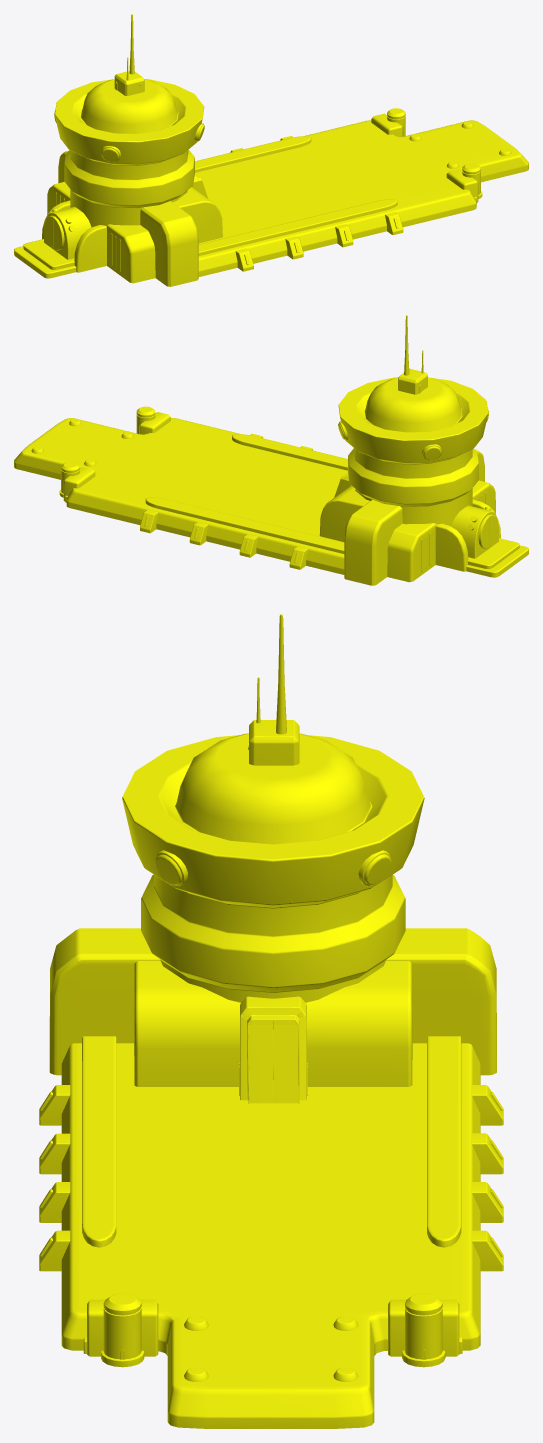
The model's file is runway_strip.glb.
3 views of the same model, one above another, from view 1: azimuth 30°, elevation 25°; view 2: azimuth 150°, elevation 25°; view 3: azimuth 270°, elevation 25° (orthographic). The views are drawn at different scales.
Visible parts, largest first — view 1: Runway strip; view 2: Runway strip; view 3: Runway strip.
Boxes of the visible parts, box(x1,y1,x2,y2) form: Runway strip: box(14, 14, 528, 286); Runway strip: box(14, 315, 528, 585); Runway strip: box(39, 614, 503, 1428).
Bounding box in the file's own units: 35.12 × 15.88 × 14.81.
Materials: 1 (1 with a texture image).
